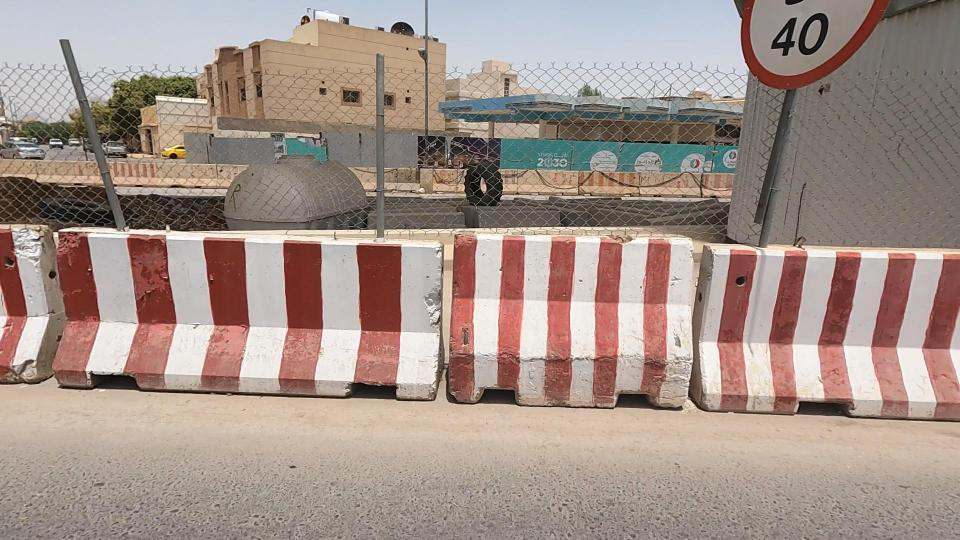CONSTRUCTION_ROAD: (0, 80, 650, 470), (337, 111, 960, 453)
